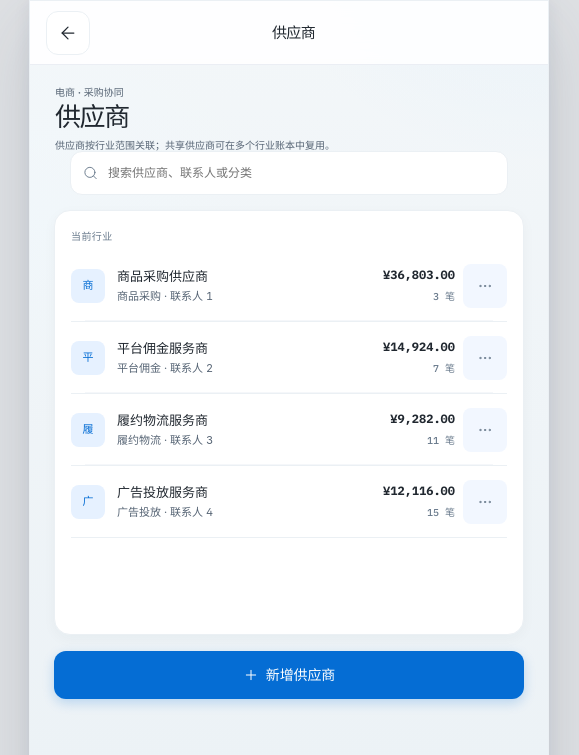
C5 供应商行收敛：整行进入编辑，编辑/删除收进更多菜单 › 删除保留既有确认流程：确认后删除并提示，历史流水保留（行为不变）
Expected: the heading "供应商" is shown, [55,101,129,132]
Click the 1st button named "更多操作": (485, 286) [463,264,507,308]
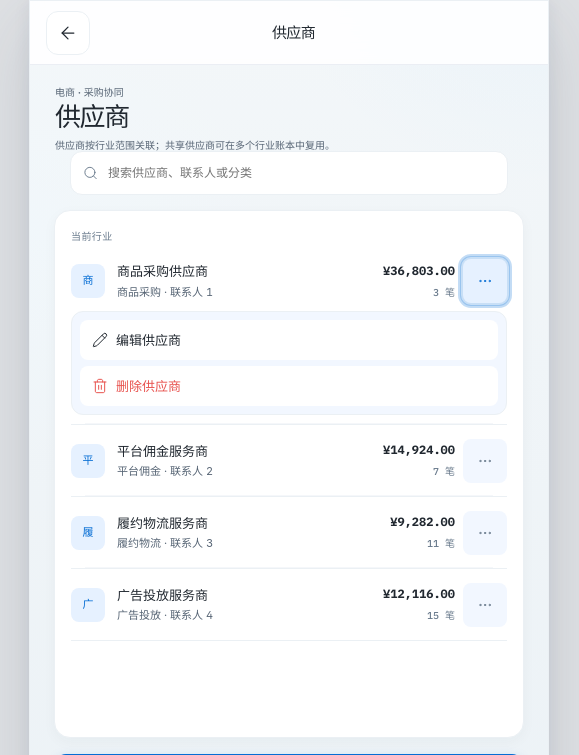
Click the button "删除供应商": (149, 386) [80,366,498,406]
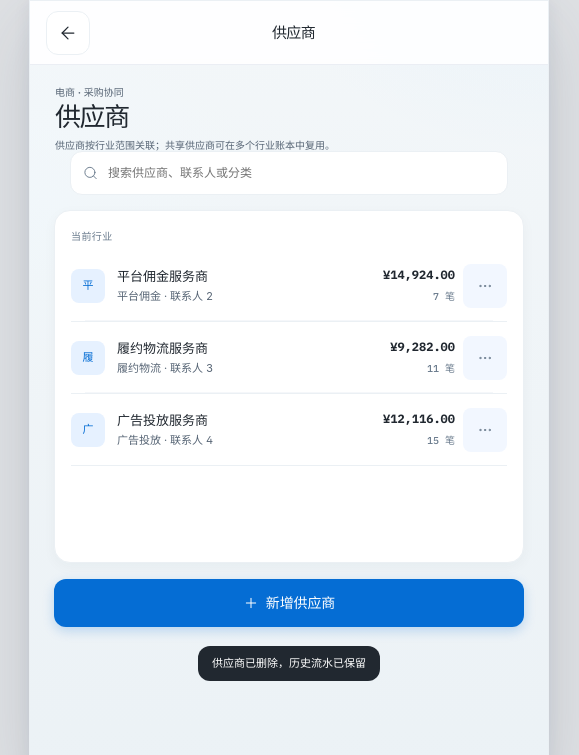
Expected: the message reads "供应商已删除，历史流水已保留", [212,656,366,670]
